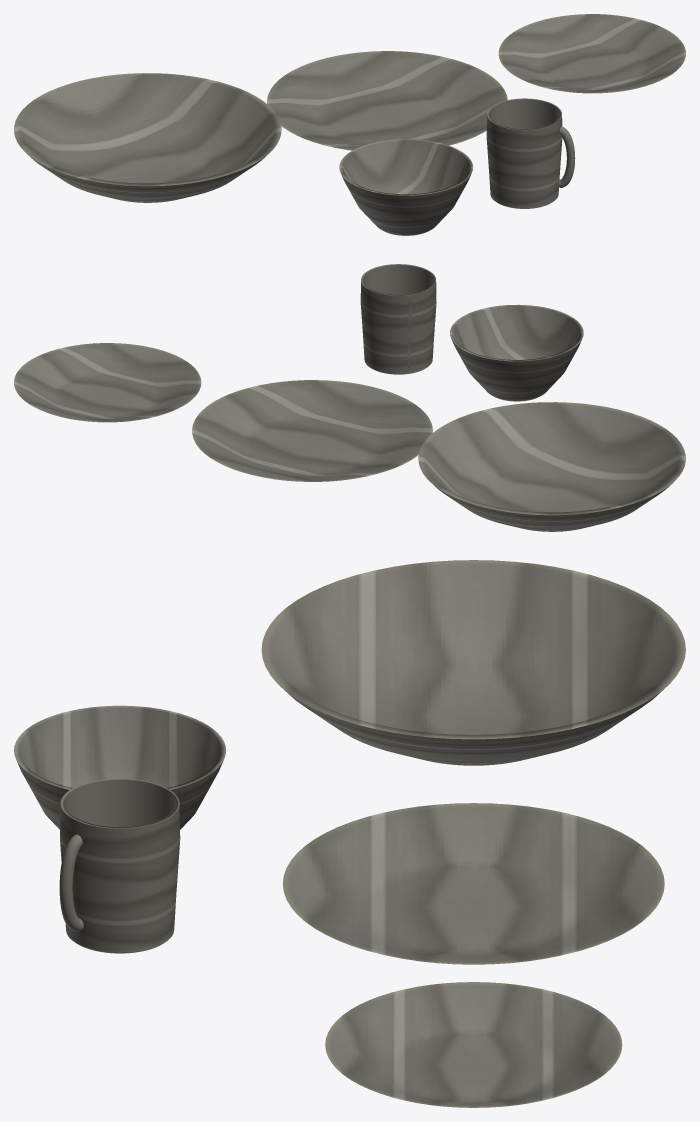
The model's file is BLC-05.glb.
3 renders of one model, top to bottom at view 1: azimuth 30°, elevation 25°; view 2: azimuth 150°, elevation 25°; view 3: azimuth 270°, elevation 25°, orthographic. The views are drawn at different scales.
Size of the model in its own units: 0.83 by 0.1 by 0.475.
11 materials, 9 textured.
